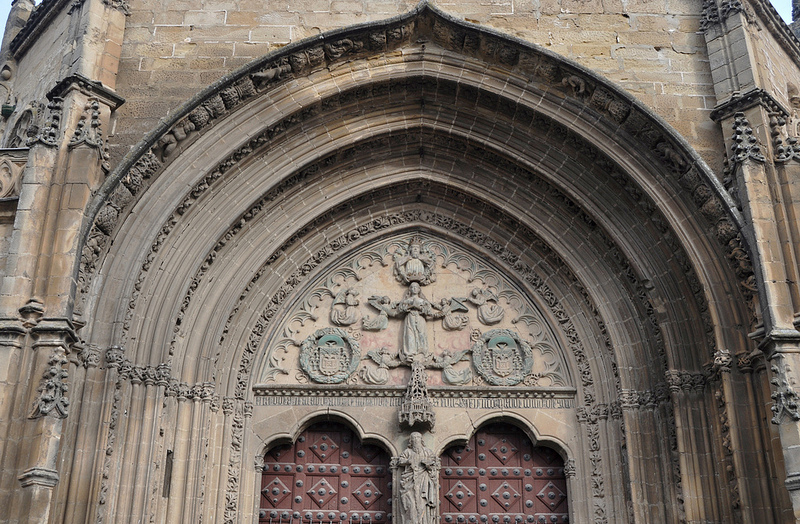arco-apuntado: (217, 65, 617, 388)
arco-conopial: (244, 1, 582, 62)
arco-trilobulado: (245, 392, 404, 476), (425, 402, 577, 477)
